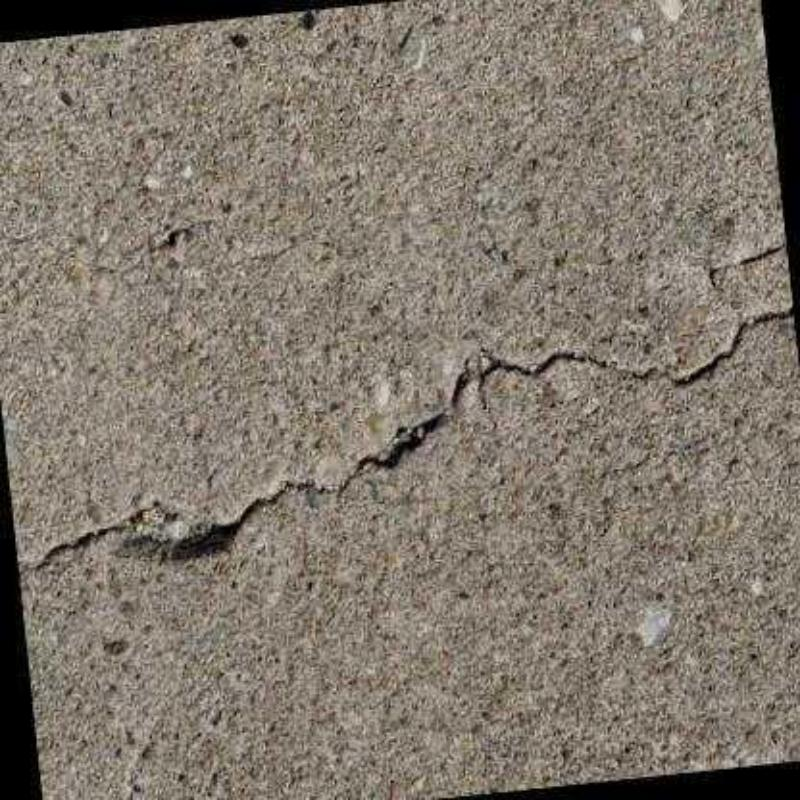crack: (15, 300, 793, 568)
